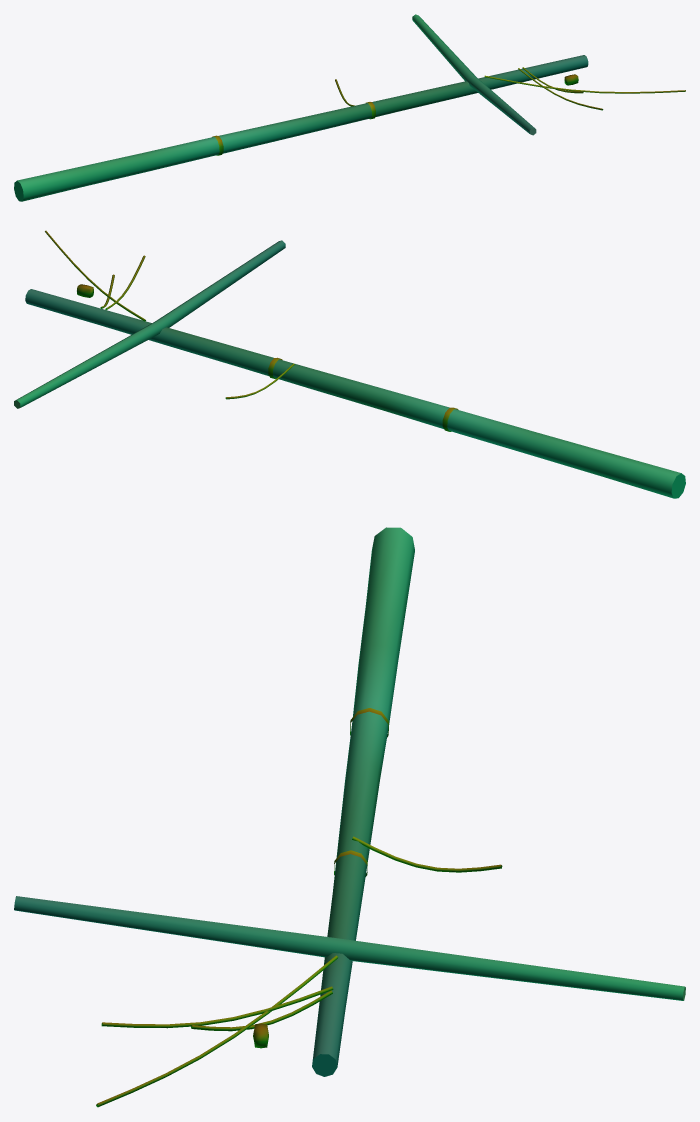
Rendered from wreck_mast_fallen.glb.
3 views of the same model, one above another, from view 1: azimuth 30°, elevation 25°; view 2: azimuth 150°, elevation 25°; view 3: azimuth 270°, elevation 25° (orthographic). The views are drawn at different scales.
Parts seen in each view (by area): view 1: wreck_mast_fallen; view 2: wreck_mast_fallen; view 3: wreck_mast_fallen.
Boxes of the visible parts, x1,y1,x2,y2 form: wreck_mast_fallen: [14, 14, 685, 201]; wreck_mast_fallen: [14, 230, 685, 498]; wreck_mast_fallen: [14, 527, 685, 1107].
Size of what is drawn, in the model's own units: 11.89 by 0.7679 by 5.83.
